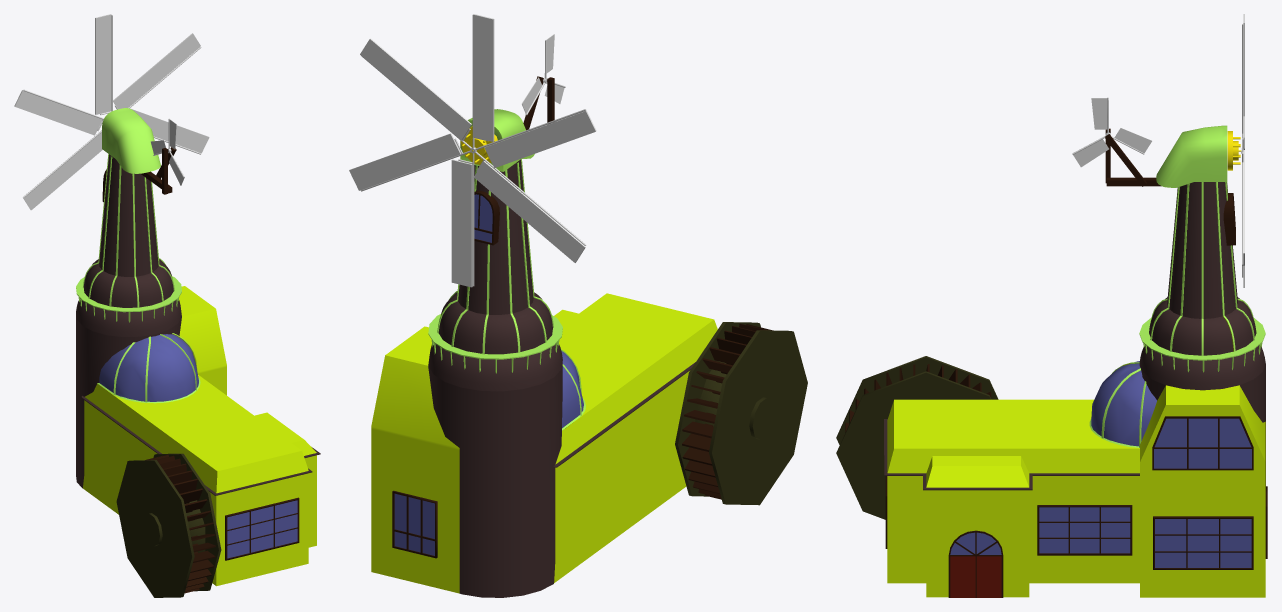
Rendered from Windmill.FBX.
3 views of the same model, side by side, from view 1: azimuth 30°, elevation 25°; view 2: azimuth 150°, elevation 25°; view 3: azimuth 270°, elevation 25° (orthographic). The views are drawn at different scales.
Visible parts, largest first — view 1: Main Building, Water Wheel Body, Rectangular Blade018, Rectangular Blade023, Rectangular Blade019, Rectangular Blade020, Rectangular Blade022, Mini Mill Arm Supports, WW Axle, Water Wheel Center; view 2: Main Building, Water Wheel Body, Rectangular Blade018, Rectangular Blade021, Rectangular Blade020, Rectangular Blade023, Rectangular Blade019, Rectangular Blade022, WW Axle, Water Wheel Center; view 3: Main Building, Water Wheel Body, Mini Mill Arm Supports.
Boxes of the visible parts, x1,y1,x2,y2 form: Main Building: (76,108,320,586); Water Wheel Body: (116,453,221,597); Rectangular Blade018: (95,14,111,114); Rectangular Blade023: (113,33,200,109); Rectangular Blade019: (14,90,102,135); Rectangular Blade020: (23,132,102,210); Rectangular Blade022: (130,108,209,153); Mini Mill Arm Supports: (141,147,176,194); WW Axle: (143,513,162,546); Water Wheel Center: (185,500,205,552); Main Building: (371,109,717,597); Water Wheel Body: (675,322,807,505); Rectangular Blade018: (473,14,494,141); Rectangular Blade021: (451,159,472,287); Rectangular Blade020: (474,161,585,262); Rectangular Blade023: (360,38,471,140); Rectangular Blade019: (484,110,596,168); Rectangular Blade022: (349,133,461,190); WW Axle: (749,397,773,439); Water Wheel Center: (695,361,726,426); Main Building: (884,125,1267,597); Water Wheel Body: (836,356,998,519); Mini Mill Arm Supports: (1105,128,1161,186).
Size of the model in its own units: 481 by 1092 by 779.
